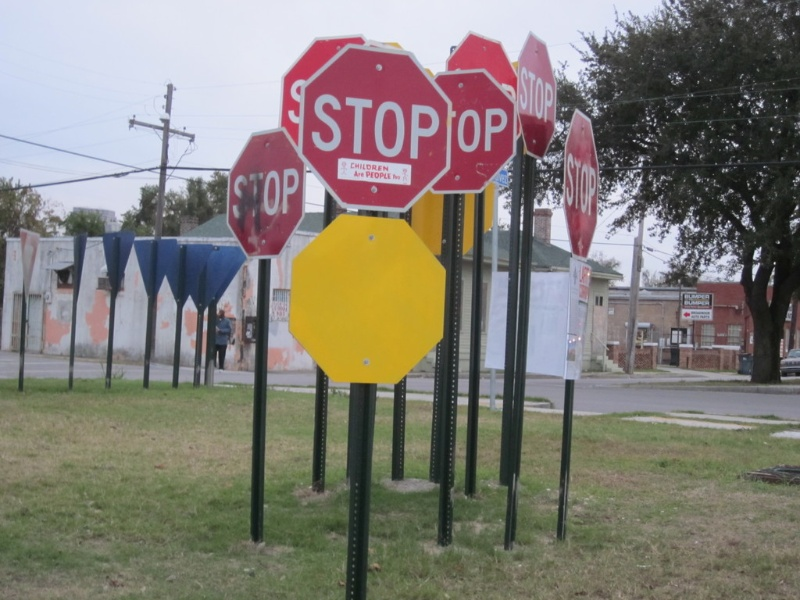stop: (301, 46, 452, 218), (215, 119, 311, 261), (572, 113, 607, 293), (517, 24, 560, 157)
